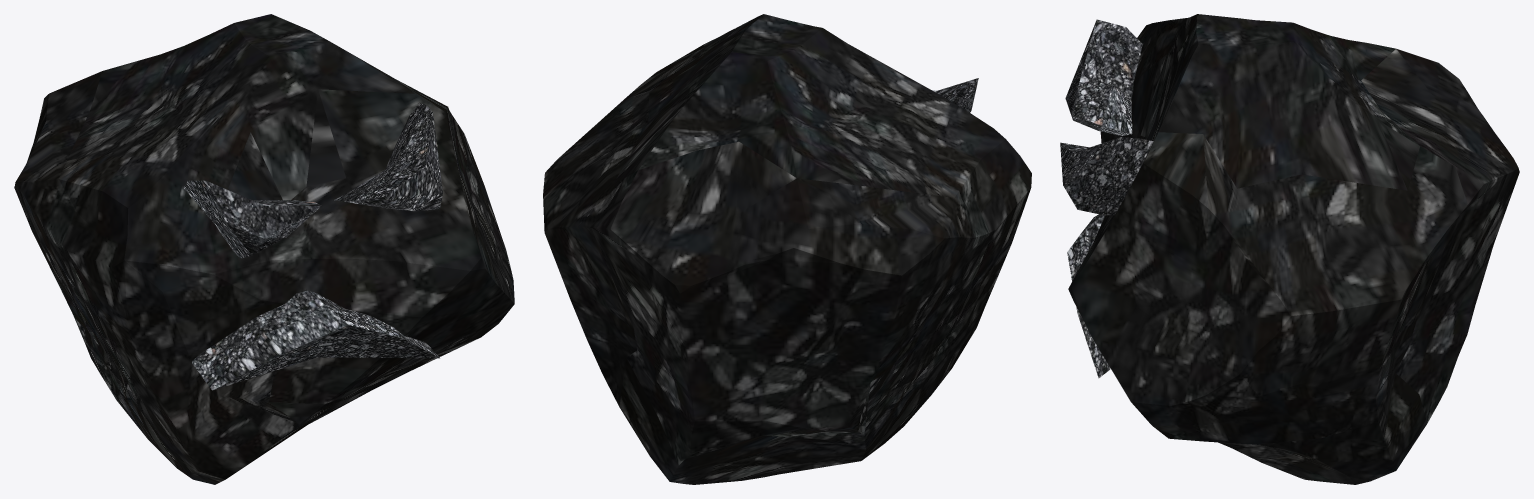
Rendered from coal (1).fbx.
3 renders of one model, left to right at view 1: azimuth 30°, elevation 25°; view 2: azimuth 150°, elevation 25°; view 3: azimuth 270°, elevation 25°, orthographic. The views are drawn at different scales.
Visible parts, largest first — view 1: Cube, Cube.001; view 2: Cube, Cube.001; view 3: Cube, Cube.001.
Part boxes in pixels (x1,y1,x2,y2): Cube: [14, 14, 514, 484]; Cube.001: [183, 103, 442, 390]; Cube: [543, 14, 1031, 484]; Cube.001: [932, 78, 978, 112]; Cube: [1068, 14, 1519, 484]; Cube.001: [1060, 19, 1153, 378].
Bounding box in the file's own units: 193 × 186 × 172.
2 materials, 2 textured.
